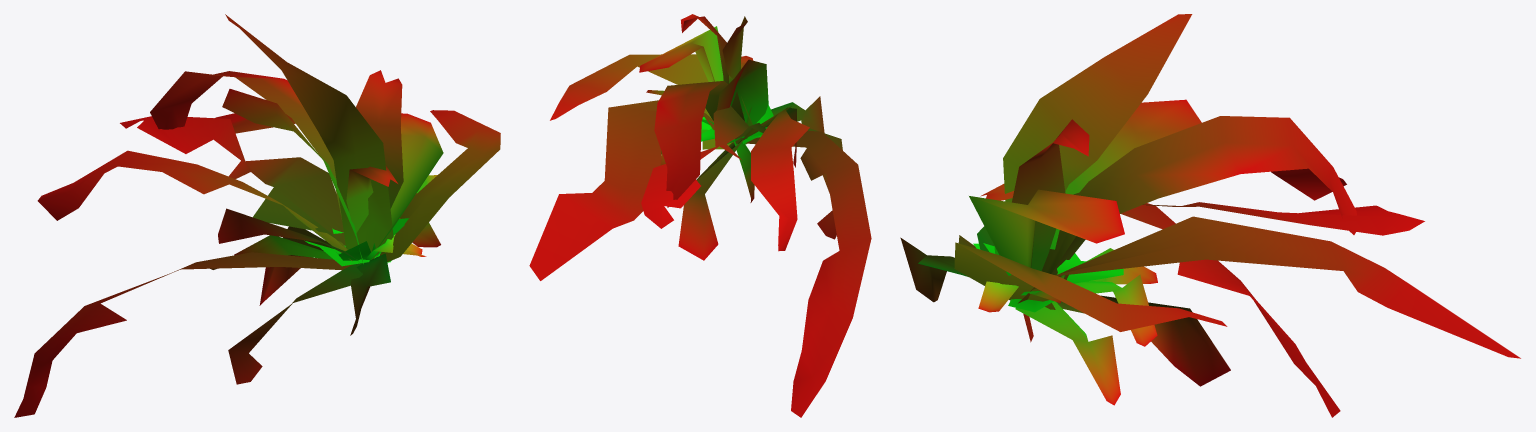
Rendered from Fern_LOD2_Var5_sbslY.fbx.
The picture shows the model from 3 angles, left to right: view 1: azimuth 30°, elevation 25°; view 2: azimuth 150°, elevation 25°; view 3: azimuth 270°, elevation 25°; orthographic projection. The views are drawn at different scales.
Visible parts, largest first — view 1: _c7f7_Var5_LOD2; view 2: _c7f7_Var5_LOD2; view 3: _c7f7_Var5_LOD2.
Part boxes in pixels (x1,y1,x2,y2): _c7f7_Var5_LOD2: (14, 14, 500, 417); _c7f7_Var5_LOD2: (529, 14, 871, 417); _c7f7_Var5_LOD2: (900, 14, 1520, 417).
Size of the model in its own units: 102 by 97.32 by 114.
